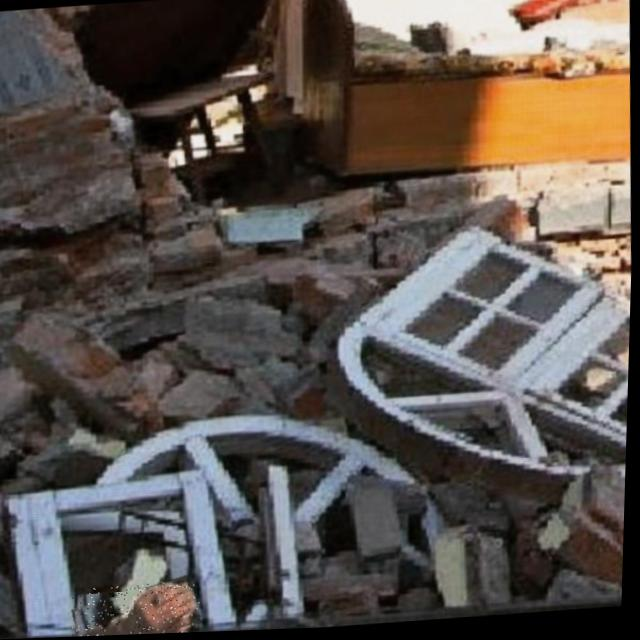Person in Rubble: (74, 581, 204, 637)
